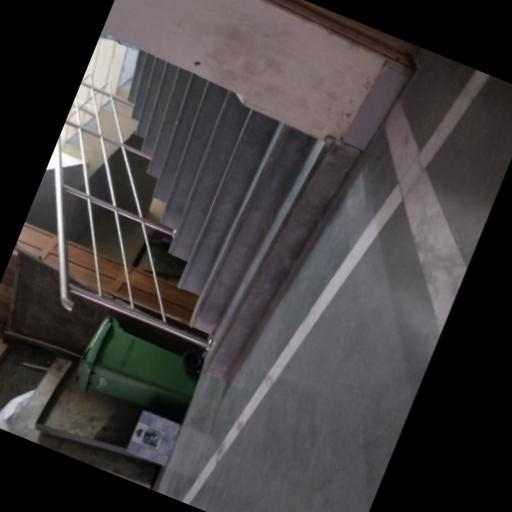stairs: (130, 52, 359, 379)
